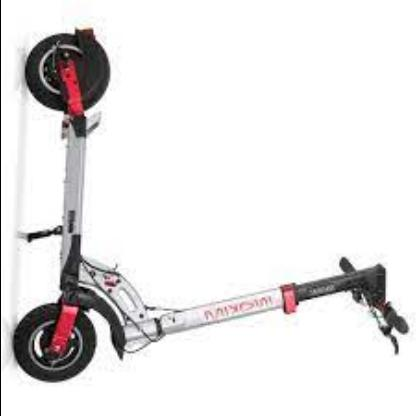bike: (12, 25, 412, 385), (13, 226, 396, 384)
